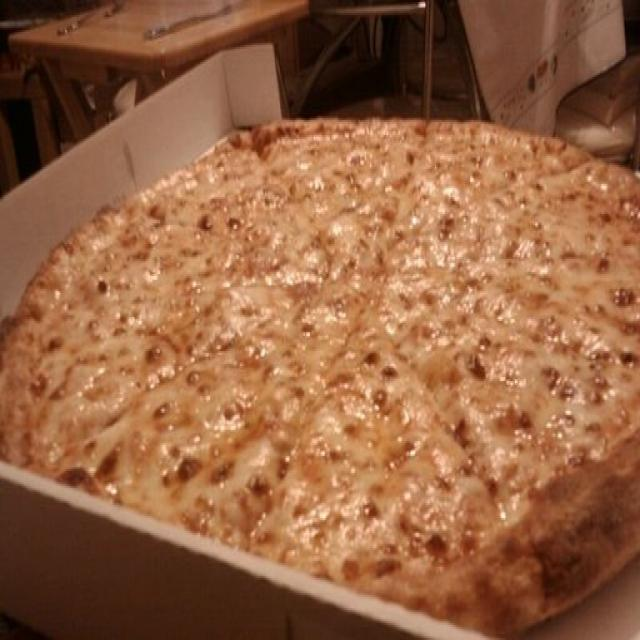Pizza: (0, 120, 640, 640)
